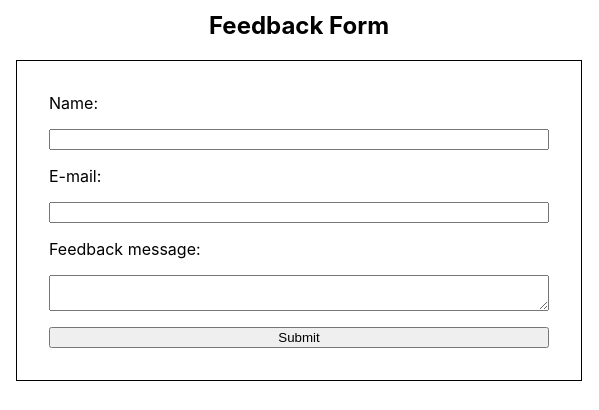
Test: submits feedback successfully
Type "John Doe" into the field labelled "Name:" at (299, 139), box x1=49 y1=129 x2=549 y2=150
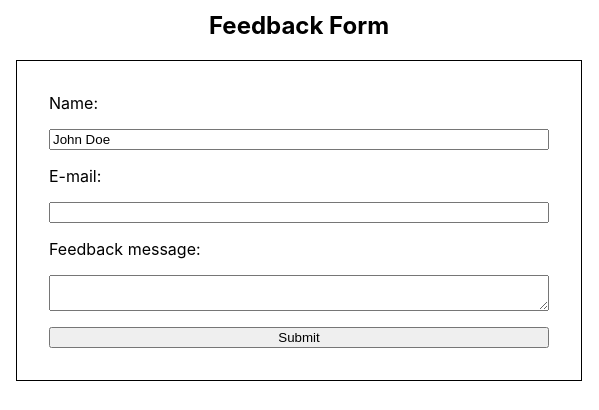
Type "john@example.com" into the field labelled "E-mail:" at (299, 212), box x1=49 y1=202 x2=549 y2=223
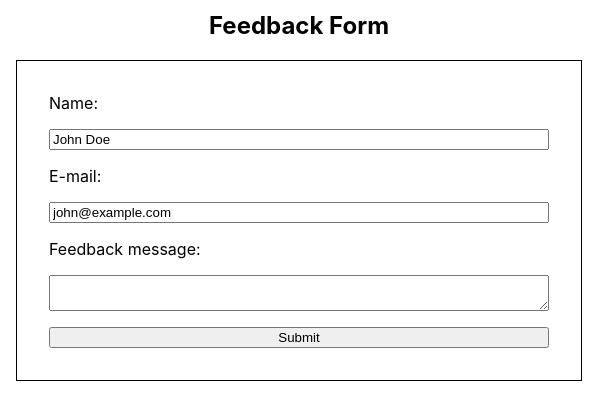
Type "Your platform looks great!" into the text box labelled "Feedback message:" at (299, 293), box x1=49 y1=275 x2=549 y2=311
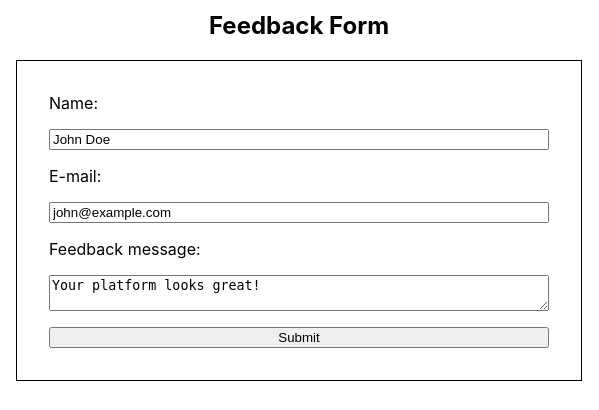
Click the button "Submit" at (299, 337), box x1=49 y1=327 x2=549 y2=348
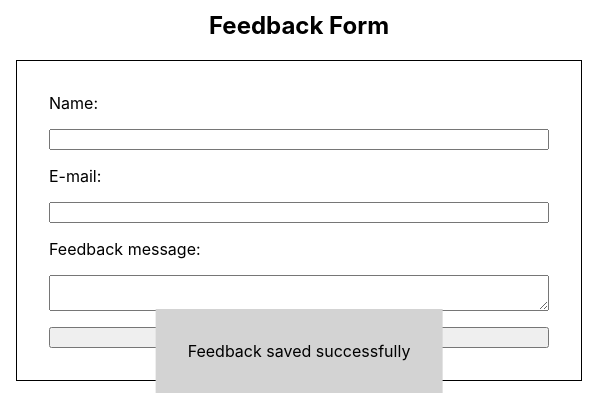
expect the text "Feedback saved successfully" is shown: met, box x1=156 y1=309 x2=442 y2=393
